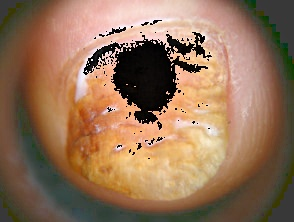Nail_psoriasis: (54, 14, 255, 205)
